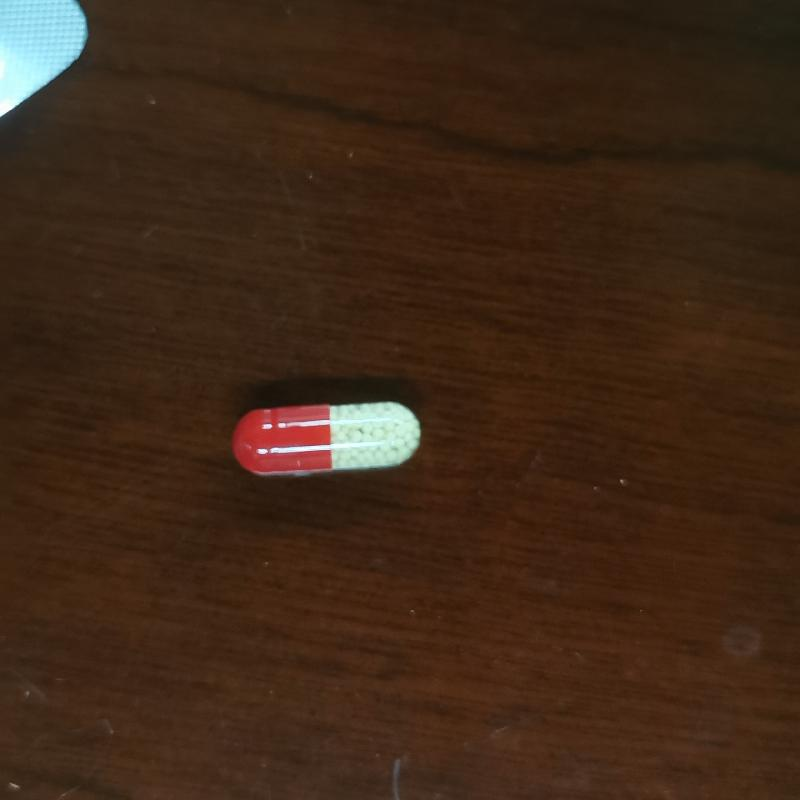pills: (226, 397, 438, 485)
